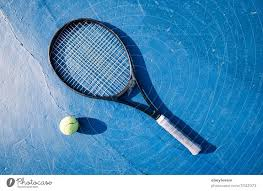tennis_ball: (59, 115, 80, 136)
